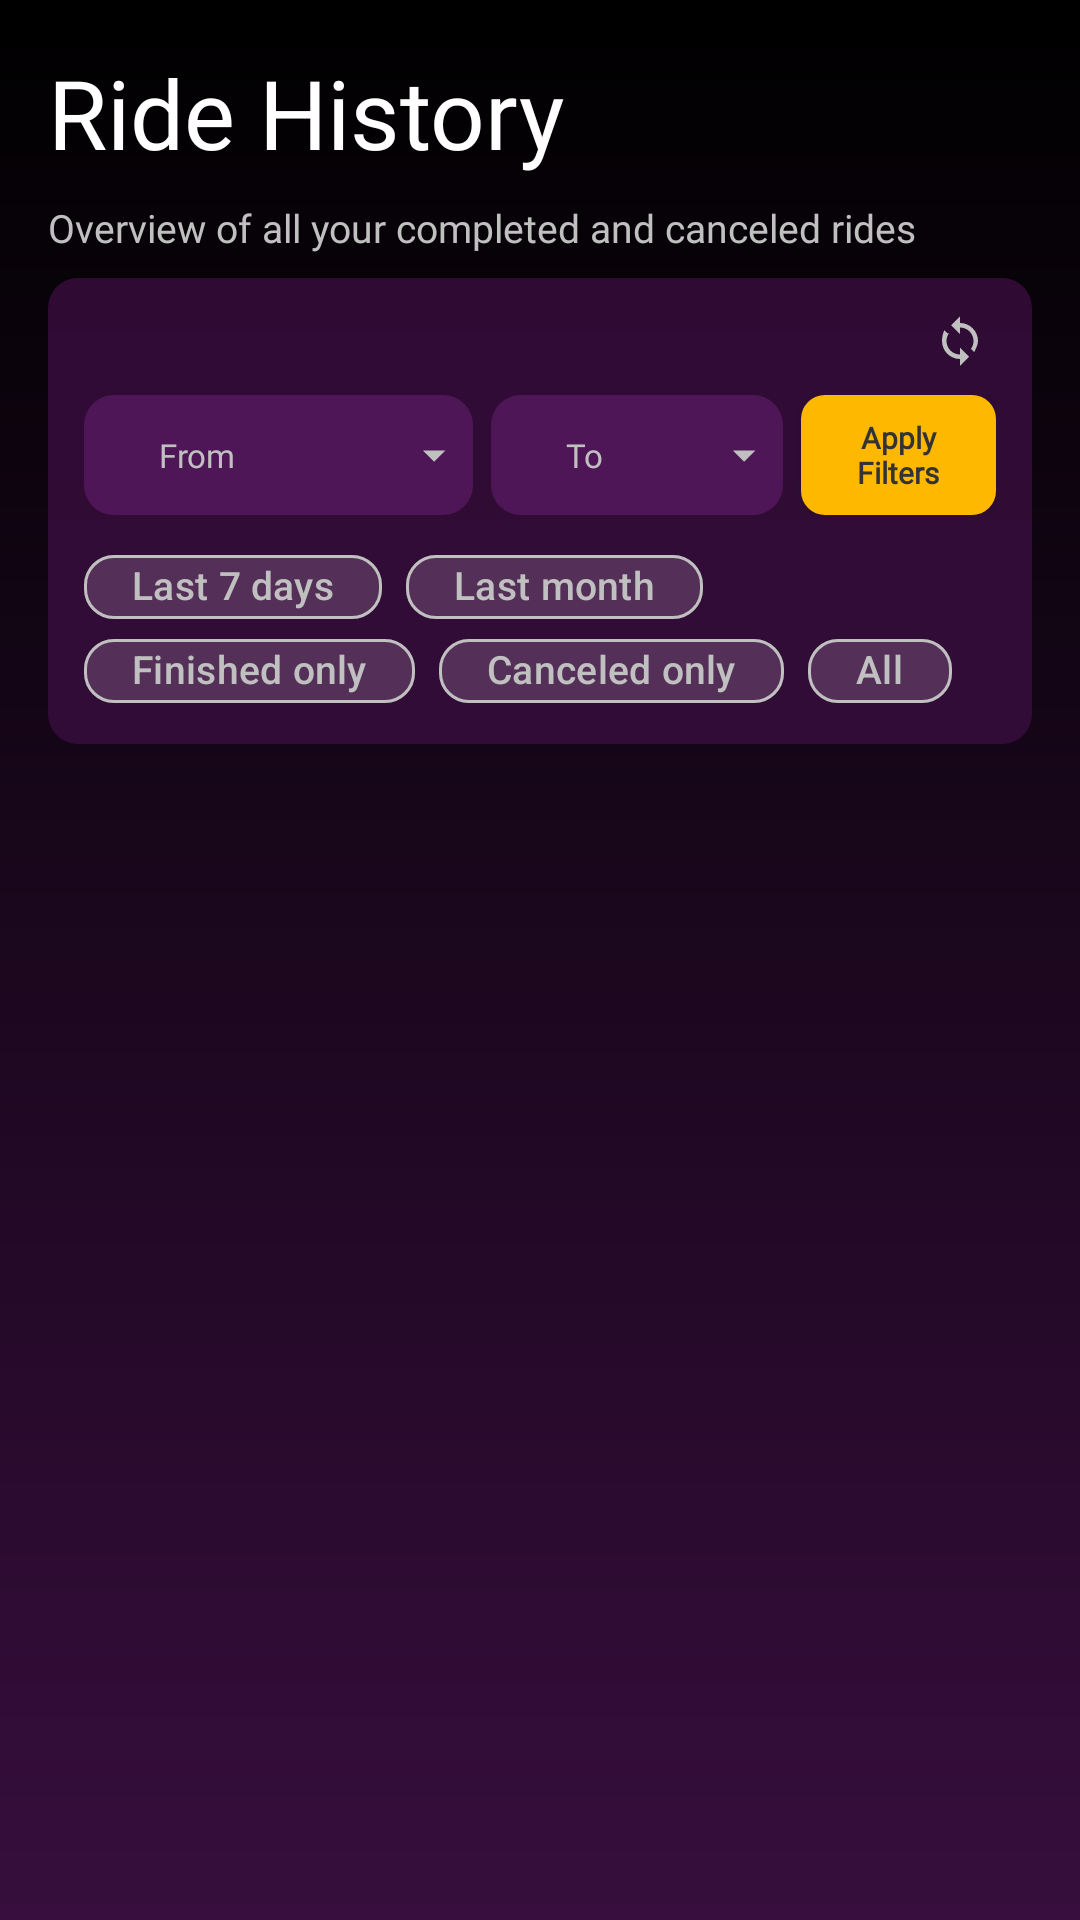

Icons on this 1080px x 1920px Android screen, each with the point to tap as point (x, y):
Reset filters: point (960, 341)
